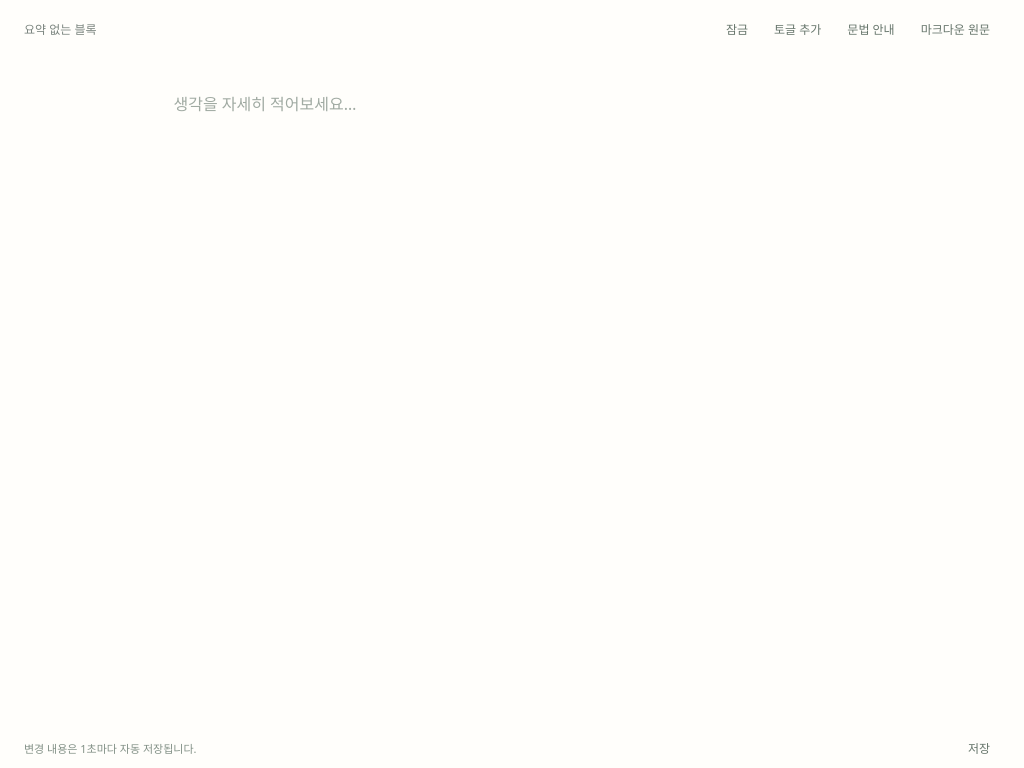
allows retrying when the lock request cannot be sent
Click the button "잠금": [737, 29] box x1=716 y1=14 x2=758 y2=44
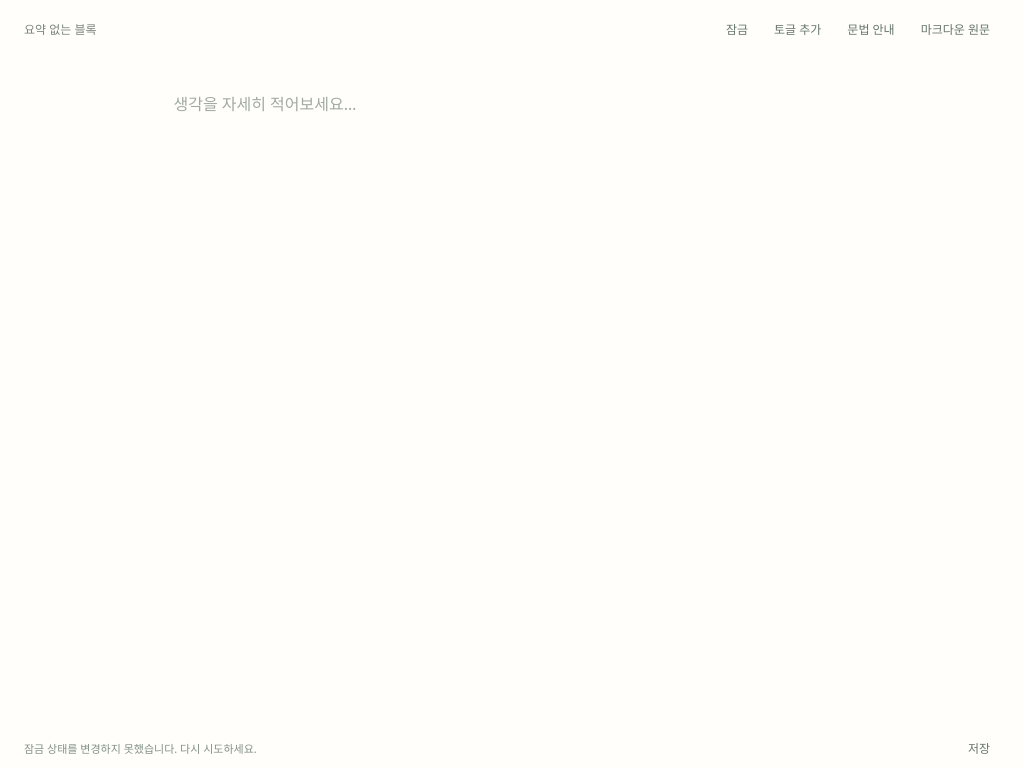
Check: the text "잠금 상태를 변경하지 못했습니다" is shown, box x1=24 y1=741 x2=257 y2=756
